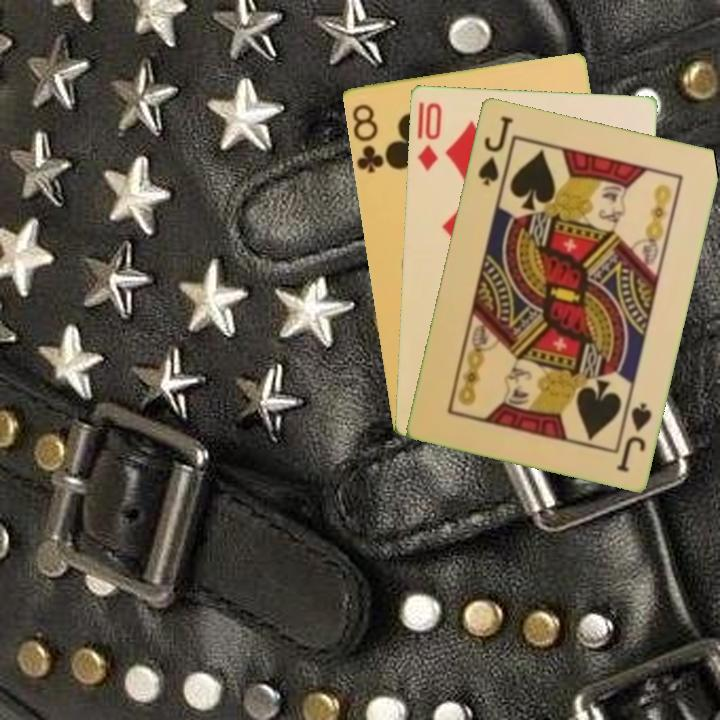10d: (414, 98, 444, 173)
8c: (348, 100, 390, 175)
Js: (612, 398, 655, 475), (474, 112, 516, 189)
